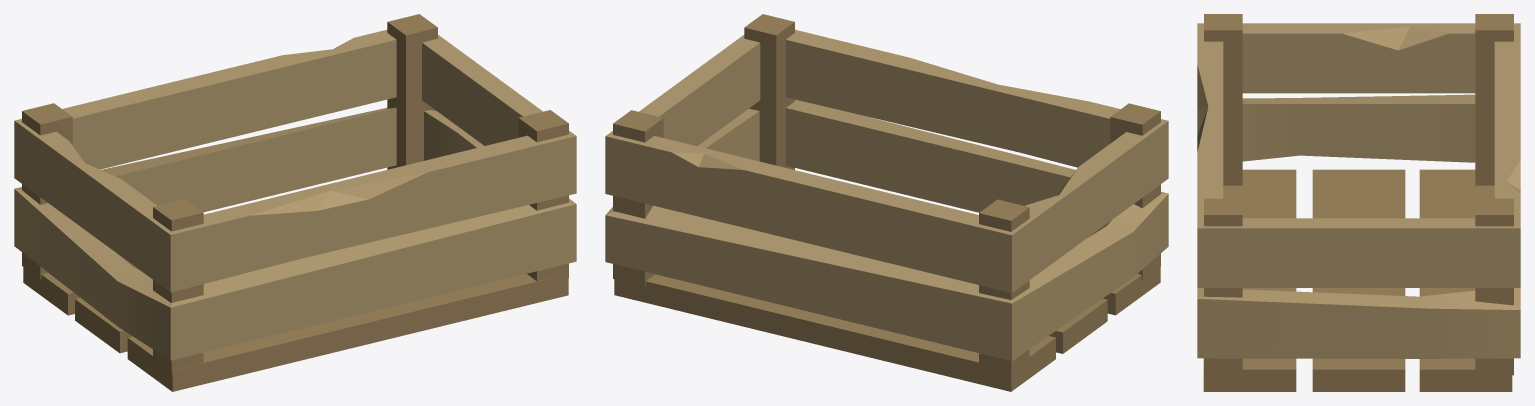
The model's file is SM_Prop_Slatbox_01.glb.
3 views of the same model, side by side, from view 1: azimuth 30°, elevation 25°; view 2: azimuth 150°, elevation 25°; view 3: azimuth 270°, elevation 25° (orthographic). The views are drawn at different scales.
Visible parts, largest first — view 1: SM_Prop_Slatbox_01; view 2: SM_Prop_Slatbox_01; view 3: SM_Prop_Slatbox_01.
Boxes of the visible parts, left/top/right/bottom form: SM_Prop_Slatbox_01: left=14, top=14, right=576, bottom=391; SM_Prop_Slatbox_01: left=605, top=14, right=1168, bottom=391; SM_Prop_Slatbox_01: left=1197, top=14, right=1520, bottom=391.
Bounding box in the file's own units: 0.8544 × 0.3306 × 0.5461.
1 material, 1 textured.
